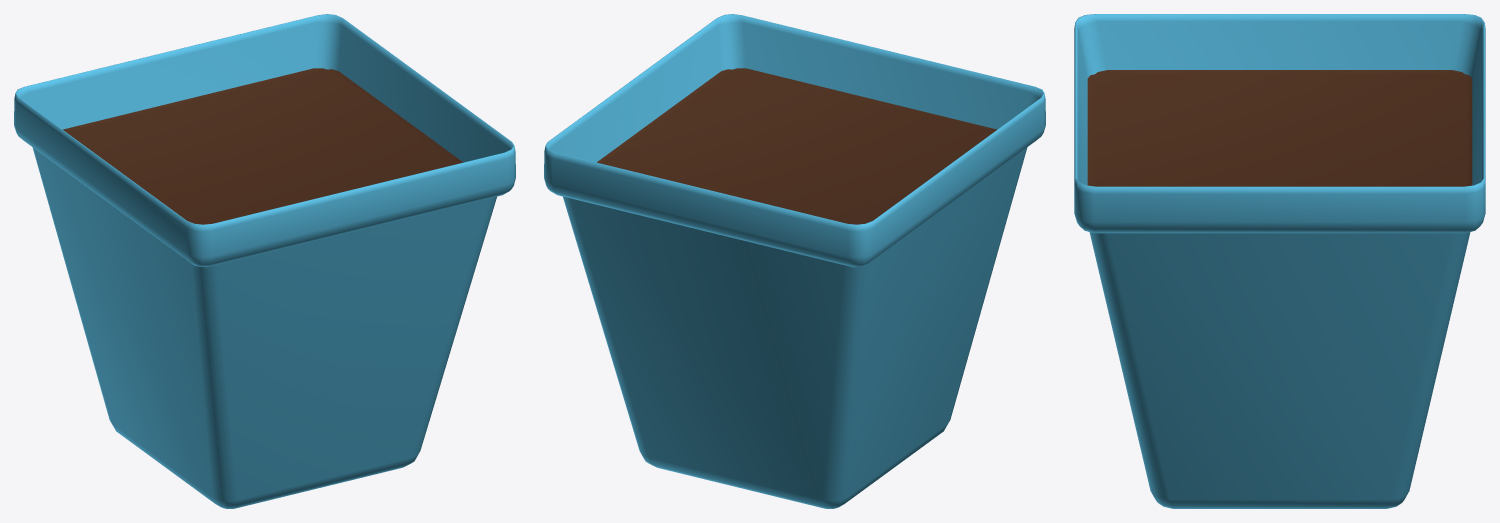
Rendered from defaultPot.glb.
3 views of the same model, side by side, from view 1: azimuth 30°, elevation 25°; view 2: azimuth 150°, elevation 25°; view 3: azimuth 270°, elevation 25° (orthographic). The views are drawn at different scales.
Visible parts, largest first — view 1: Pot; view 2: Pot; view 3: Pot.
Boxes of the visible parts, x1,y1,x2,y2 form: Pot: (14, 14, 515, 508); Pot: (544, 14, 1045, 508); Pot: (1074, 14, 1485, 508).
Size of the model in its own units: 1.27 by 1.23 by 1.27.
